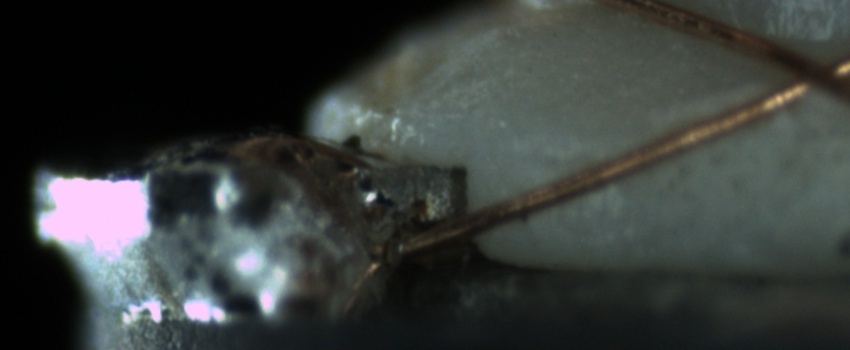CL: (764, 39, 847, 106)
DL: (504, 124, 637, 186)
